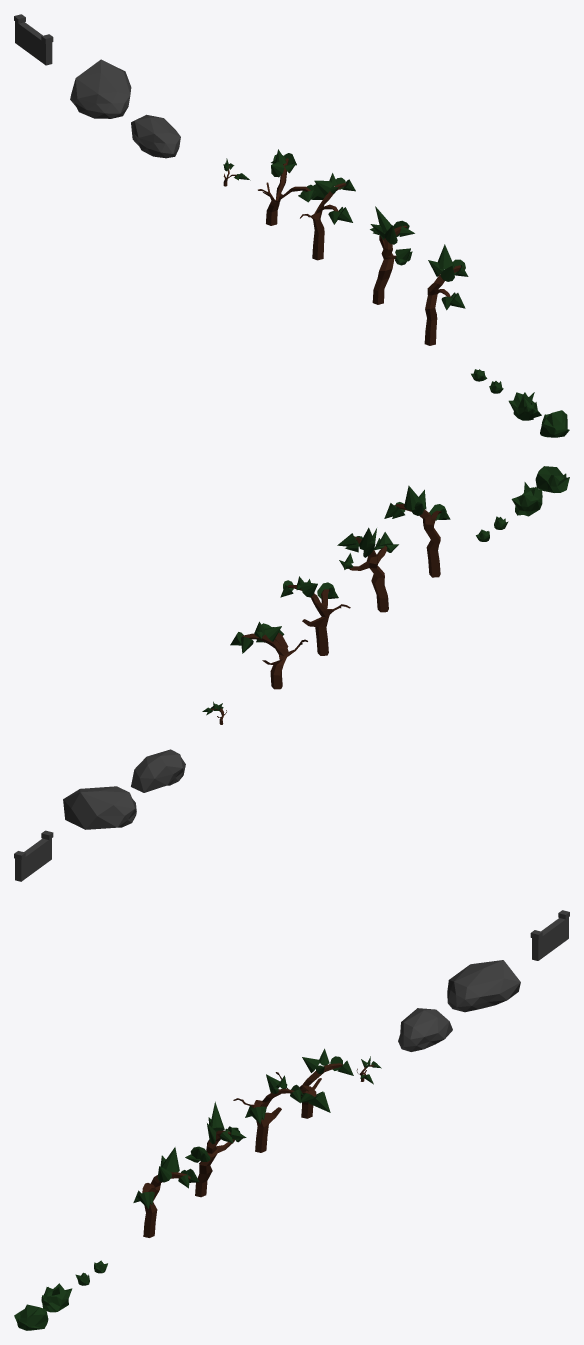
File: EvilTreesAndOthers.fbx
3 renders of one model, top to bottom at view 1: azimuth 30°, elevation 25°; view 2: azimuth 150°, elevation 25°; view 3: azimuth 330°, elevation 25°, orthographic.
Parts seen in each view (by area): view 1: rock2, ConedecreipitTree, ConedecreipitTree2, Rock, ConedecreipitTree.001, ConedecreipitTree.002, LowWall, Bush.003, Bush.002; view 2: rock2, ConedecreipitTree2, ConedecreipitTree, Rock, ConedecreipitTree.001, ConedecreipitTree.002, LowWall, Bush.003, Bush.002; view 3: rock2, Rock, ConedecreipitTree2, ConedecreipitTree, ConedecreipitTree.002, ConedecreipitTree.001, LowWall, Bush.003, Bush.002.
Boxes of the visible parts, <box> form: rock2: <box>70,59,131,118</box>; ConedecreipitTree: <box>424,244,468,345</box>; ConedecreipitTree2: <box>370,206,414,304</box>; Rock: <box>131,114,180,158</box>; ConedecreipitTree.001: <box>300,173,355,260</box>; ConedecreipitTree.002: <box>258,149,325,225</box>; LowWall: <box>14,14,53,65</box>; Bush.003: <box>540,410,569,437</box>; Bush.002: <box>508,392,541,420</box>; rock2: <box>63,786,136,829</box>; ConedecreipitTree2: <box>337,527,398,612</box>; ConedecreipitTree: <box>384,485,450,577</box>; Rock: <box>131,749,185,792</box>; ConedecreipitTree.001: <box>280,576,350,655</box>; ConedecreipitTree.002: <box>230,621,307,689</box>; LowWall: <box>14,830,53,881</box>; Bush.003: <box>535,466,569,492</box>; Bush.002: <box>511,482,542,516</box>; rock2: <box>447,960,520,1012</box>; Rock: <box>398,1008,452,1051</box>; ConedecreipitTree2: <box>185,1101,246,1197</box>; ConedecreipitTree: <box>133,1147,199,1237</box>; ConedecreipitTree.002: <box>275,1048,353,1118</box>; ConedecreipitTree.001: <box>233,1074,303,1152</box>; LowWall: <box>530,910,569,960</box>; Bush.003: <box>14,1304,48,1330</box>; Bush.002: <box>41,1283,72,1312</box>.
Size of the model in its own units: 12.17 by 17 by 173.
